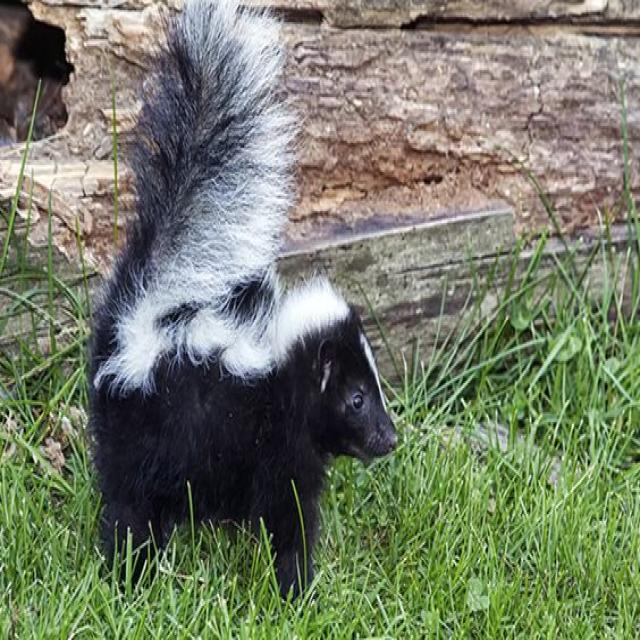Skunk: (79, 11, 404, 587)
